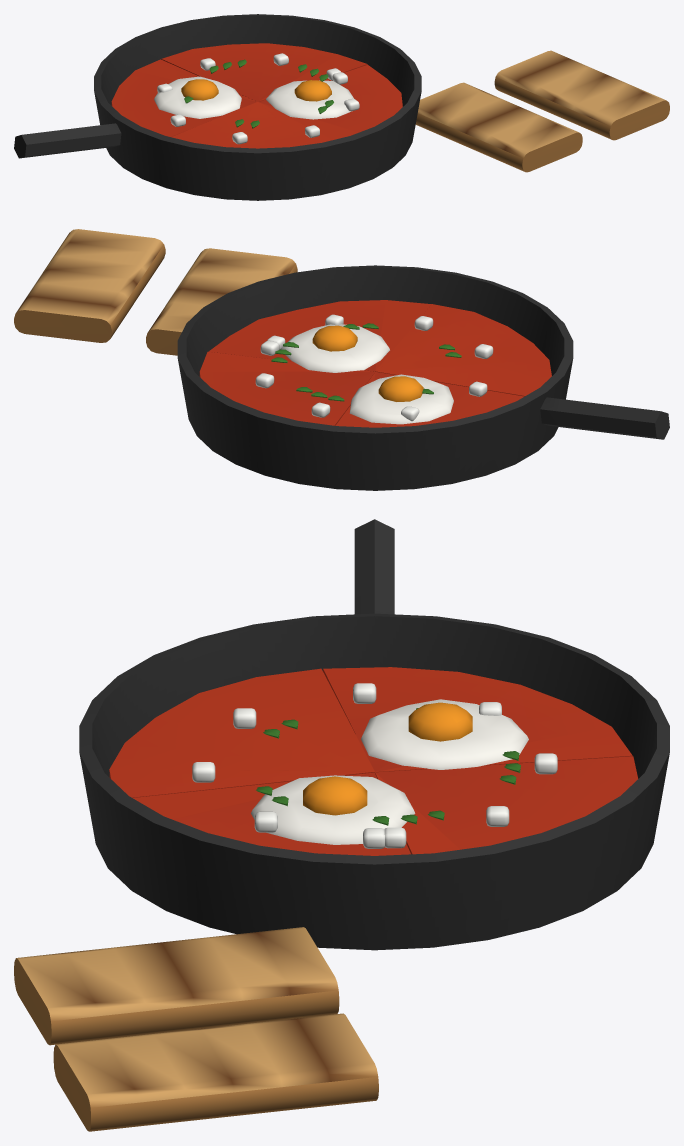
Rendered from dish-shakshuka-lod1.glb.
3 views of the same model, one above another, from view 1: azimuth 30°, elevation 25°; view 2: azimuth 150°, elevation 25°; view 3: azimuth 270°, elevation 25° (orthographic). The views are drawn at different scales.
Parts seen in each view (by area): view 1: shakshuka.lod1__table cast iron, shakshuka.lod1__food glaze, shakshuka.lod1__food; view 2: shakshuka.lod1__table cast iron, shakshuka.lod1__food glaze, shakshuka.lod1__food; view 3: shakshuka.lod1__table cast iron, shakshuka.lod1__food glaze, shakshuka.lod1__food.
Boxes of the visible parts, bbox=[...] form: shakshuka.lod1__table cast iron: bbox=[14, 14, 421, 200]; shakshuka.lod1__food glaze: bbox=[111, 43, 402, 148]; shakshuka.lod1__food: bbox=[157, 50, 669, 172]; shakshuka.lod1__table cast iron: bbox=[177, 265, 669, 490]; shakshuka.lod1__food glaze: bbox=[199, 300, 551, 427]; shakshuka.lod1__food: bbox=[14, 229, 493, 421]; shakshuka.lod1__table cast iron: bbox=[79, 519, 669, 950]; shakshuka.lod1__food glaze: bbox=[109, 667, 638, 855]; shakshuka.lod1__food: bbox=[14, 683, 557, 1131].
Size of the model in its own units: 0.3612 by 0.039 by 0.1988.
